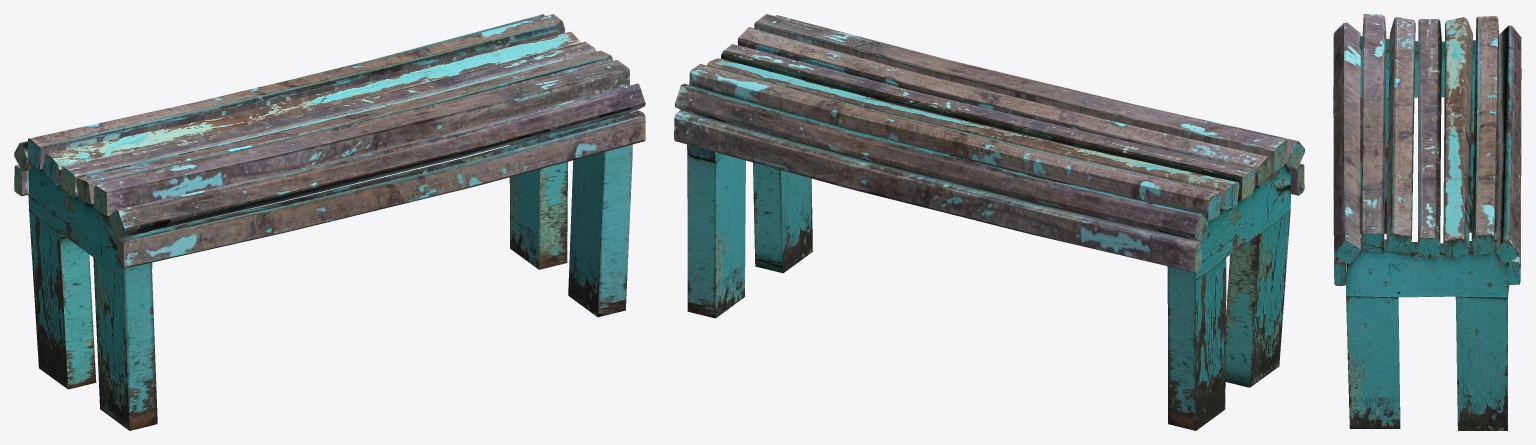
The model's file is bench_wooden.glb.
3 views of the same model, side by side, from view 1: azimuth 30°, elevation 25°; view 2: azimuth 150°, elevation 25°; view 3: azimuth 270°, elevation 25° (orthographic). The views are drawn at different scales.
Parts seen in each view (by area): view 1: bench; view 2: bench; view 3: bench.
Boxes of the visible parts, left/top/right/bottom form: bench: left=14, top=14, right=645, bottom=430; bench: left=674, top=14, right=1304, bottom=430; bench: left=1333, top=14, right=1521, bottom=430.
Bounding box in the file's own units: 1.15 × 0.4986 × 0.4205.
Materials: 1 (1 with a texture image).
